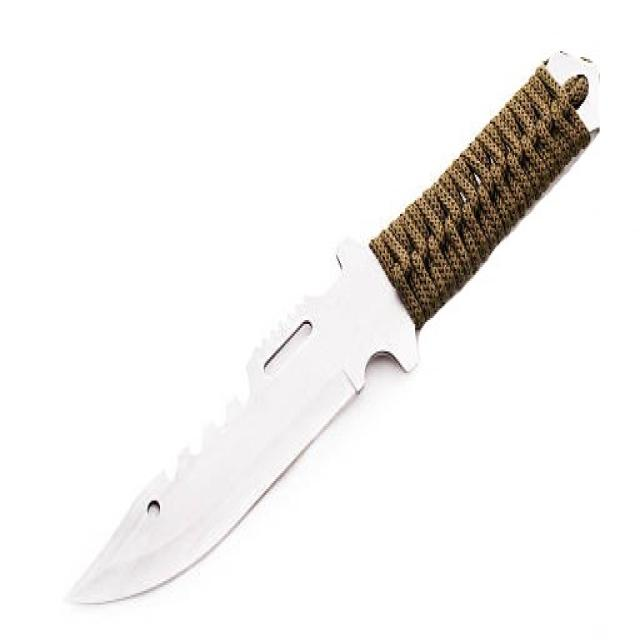knife: (60, 37, 611, 617)
